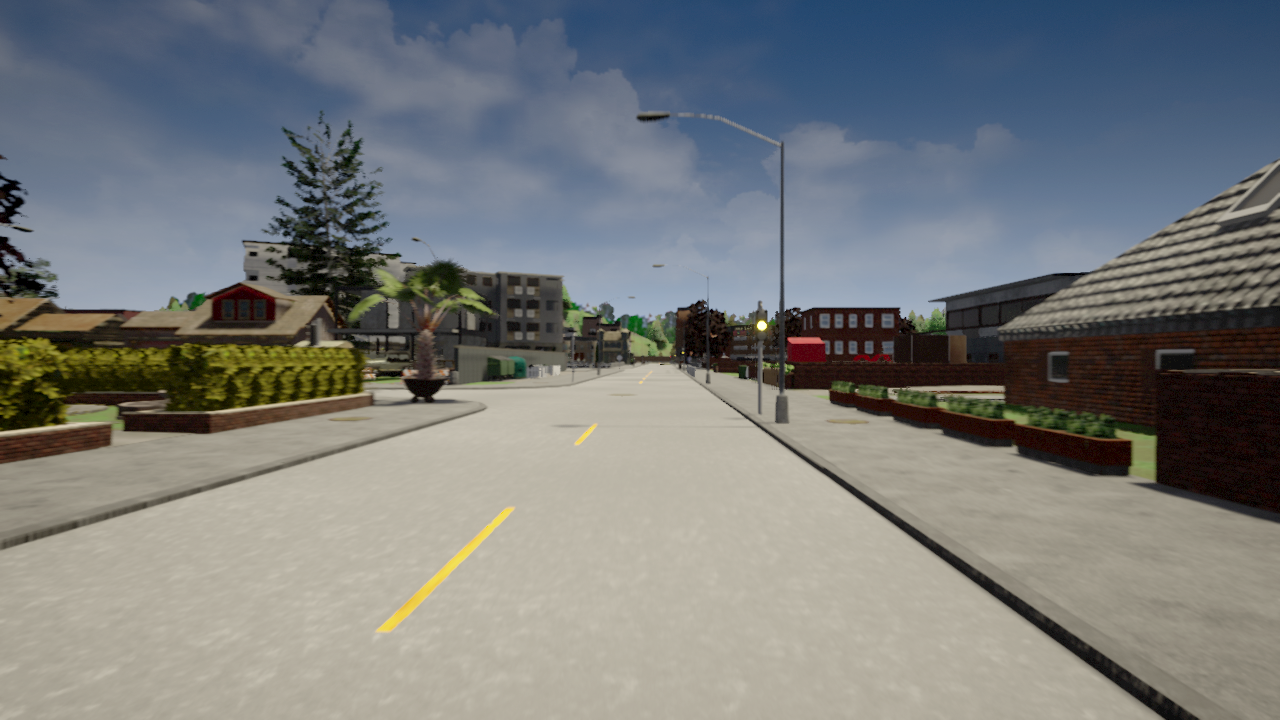yellow: (754, 309, 770, 342)
